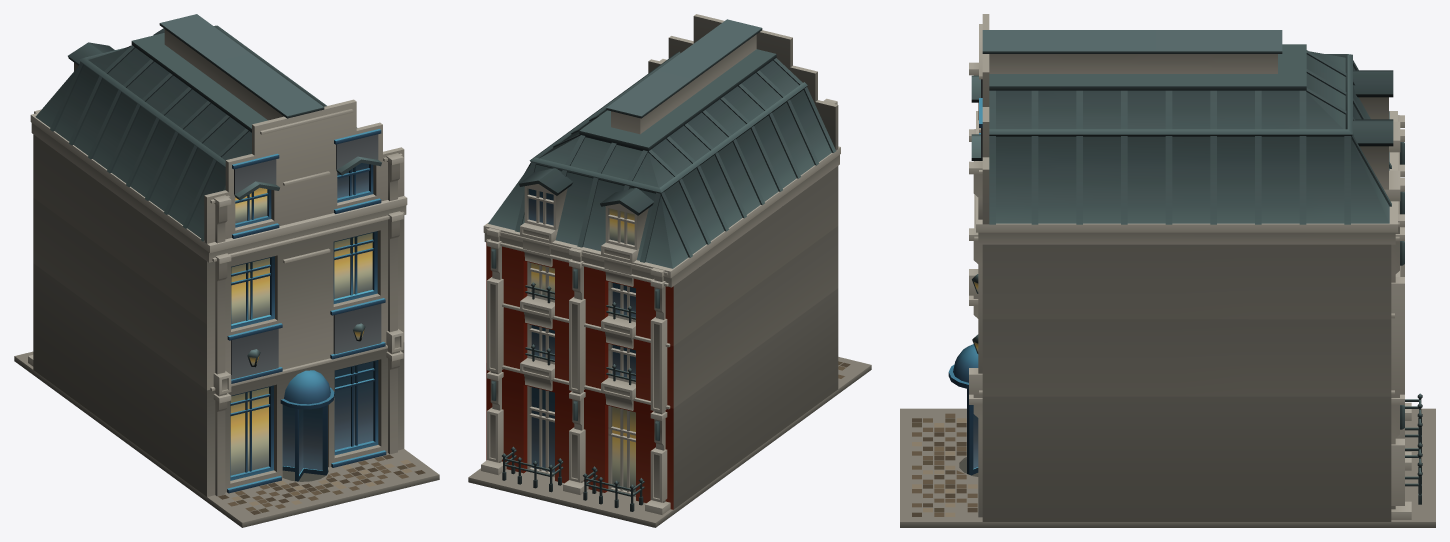
The model's file is Brownstone_5A.fbx.
3 renders of one model, left to right at view 1: azimuth 30°, elevation 25°; view 2: azimuth 150°, elevation 25°; view 3: azimuth 270°, elevation 25°, orthographic. The views are drawn at different scales.
Visible parts, largest first — view 1: Brownstone_5A, Brownstone_5A_Window_Lights, Brownstone_5A_Revolving_Door; view 2: Brownstone_5A, Brownstone_5A_Window_Lights; view 3: Brownstone_5A, Brownstone_5A_Revolving_Door.
Boxes of the visible parts, <box> form: Brownstone_5A: <box>14,14,439,527</box>; Brownstone_5A_Window_Lights: <box>230,187,372,475</box>; Brownstone_5A_Revolving_Door: <box>282,405,327,481</box>; Brownstone_5A: <box>468,14,871,527</box>; Brownstone_5A_Window_Lights: <box>531,208,635,492</box>; Brownstone_5A: <box>900,14,1435,527</box>; Brownstone_5A_Revolving_Door: <box>967,389,978,475</box>.
Bounding box in the file's own units: 1209 × 2130 × 2400.
